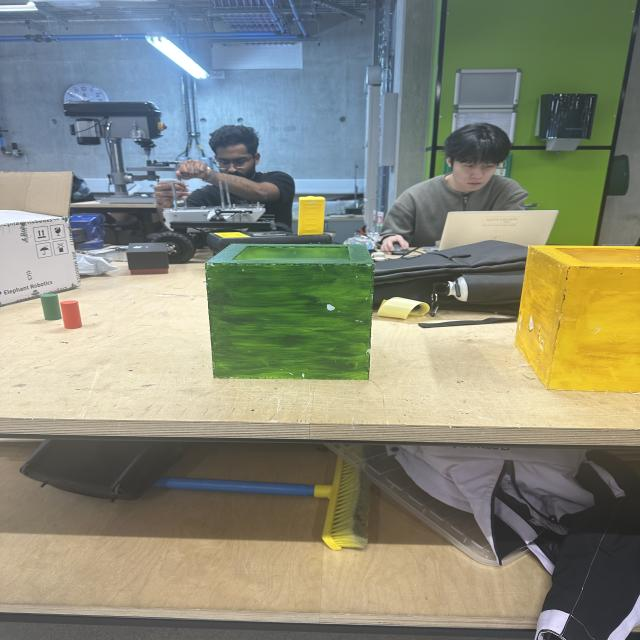green_bin: (203, 242, 376, 382)
